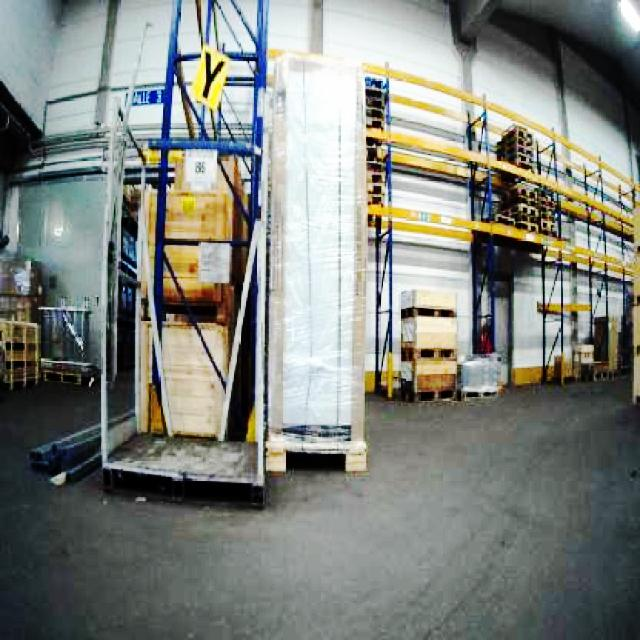ground: (0, 365, 638, 638)
pallet: (97, 46, 638, 502), (362, 60, 638, 402), (98, 0, 271, 505), (263, 51, 368, 472), (131, 149, 246, 440), (135, 186, 234, 308), (135, 317, 229, 440), (397, 288, 458, 400), (0, 314, 40, 391), (629, 189, 638, 414), (629, 295, 638, 408)
